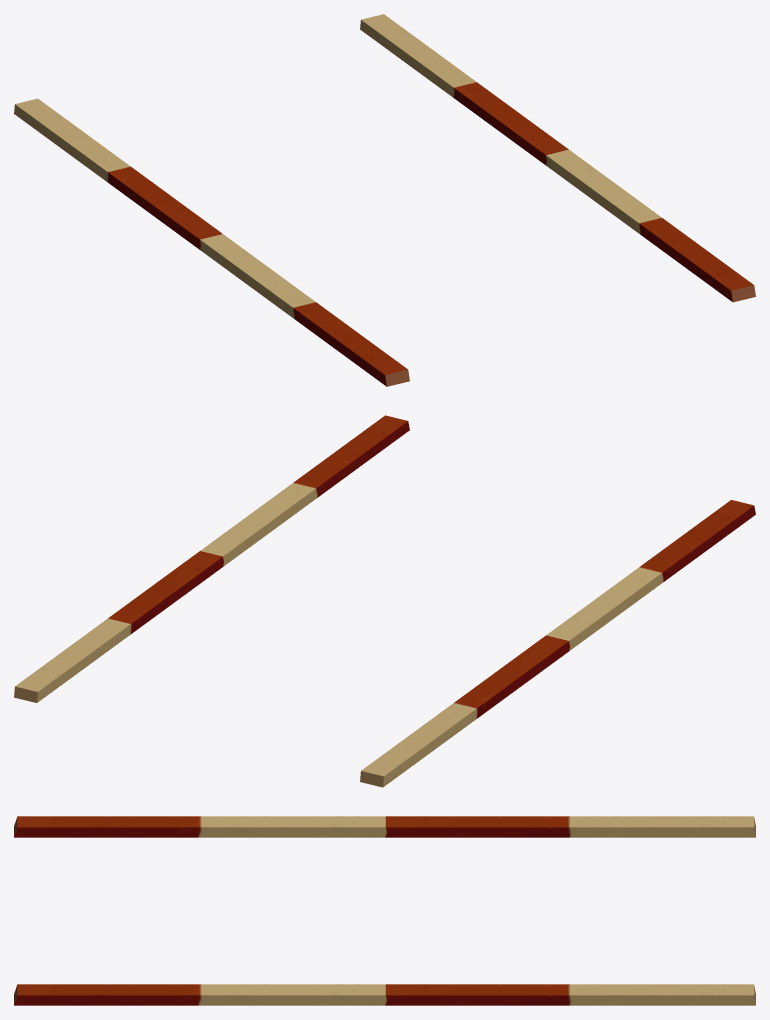
Rendered from M_taijie01.FBX.
3 renders of one model, top to bottom at view 1: azimuth 30°, elevation 25°; view 2: azimuth 150°, elevation 25°; view 3: azimuth 270°, elevation 25°, orthographic.
Visible parts, largest first — view 1: M_taijie01; view 2: M_taijie01; view 3: M_taijie01.
Part boxes in pixels (x1,y1,x2,y2): M_taijie01: [14, 14, 755, 386]; M_taijie01: [14, 415, 755, 787]; M_taijie01: [14, 816, 755, 1005].
Bounding box in the file's own units: 11.43 × 0.3085 × 20.
